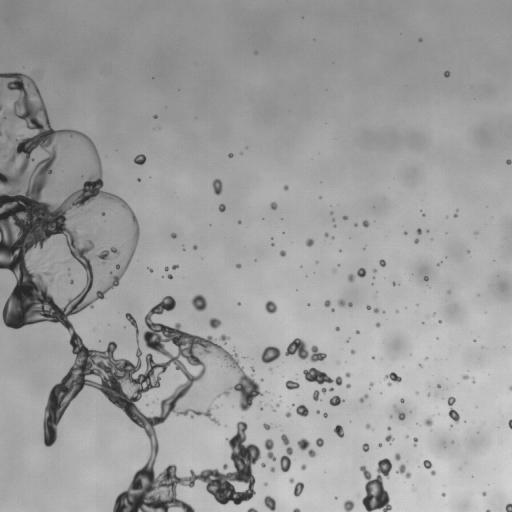droplet: (359, 458, 392, 511), (261, 346, 281, 363), (191, 294, 207, 311), (289, 478, 304, 496), (385, 372, 401, 386), (396, 464, 411, 478), (264, 496, 275, 511), (212, 179, 222, 195), (265, 300, 277, 313), (296, 404, 308, 417), (329, 395, 344, 405), (133, 154, 146, 165), (285, 379, 299, 389), (343, 500, 354, 511), (209, 318, 220, 328), (334, 425, 343, 437), (357, 268, 366, 277), (219, 334, 228, 342), (424, 418, 433, 426), (423, 460, 432, 468), (306, 238, 314, 246), (337, 299, 345, 306), (398, 412, 405, 420), (385, 435, 393, 442), (316, 438, 323, 446), (362, 443, 369, 451), (270, 202, 277, 209), (218, 204, 225, 211), (98, 209, 105, 216), (362, 220, 369, 227), (394, 453, 401, 460), (348, 274, 354, 282), (505, 503, 511, 511), (379, 259, 385, 266), (324, 300, 330, 307), (263, 423, 270, 429), (444, 70, 449, 77), (462, 374, 469, 379), (280, 250, 285, 256), (172, 264, 178, 269), (285, 412, 291, 417), (301, 464, 306, 470), (43, 271, 50, 275), (506, 159, 511, 164), (171, 233, 176, 238), (350, 349, 355, 354), (345, 372, 350, 377), (365, 424, 370, 429), (417, 228, 421, 234), (223, 463, 227, 469), (228, 153, 233, 157), (284, 185, 288, 190), (236, 264, 241, 268), (148, 267, 152, 272), (164, 266, 168, 271), (167, 274, 172, 278), (424, 276, 428, 281), (374, 308, 378, 313), (376, 322, 380, 327), (261, 462, 265, 467), (431, 470, 435, 475), (414, 239, 418, 243), (193, 245, 197, 249), (366, 305, 370, 309), (369, 383, 373, 387), (346, 384, 350, 388), (400, 398, 404, 402), (323, 413, 327, 417), (270, 467, 274, 471), (276, 402, 279, 407), (454, 213, 457, 217), (343, 216, 347, 219), (50, 278, 53, 282), (348, 303, 352, 306), (437, 384, 440, 388), (387, 427, 391, 430), (482, 492, 486, 495), (154, 115, 157, 118), (325, 233, 328, 236), (373, 269, 376, 272), (70, 280, 73, 283), (336, 327, 339, 330), (251, 367, 254, 370), (378, 444, 381, 447), (442, 493, 445, 496), (486, 509, 490, 511), (419, 38, 421, 41), (404, 231, 406, 234), (437, 263, 440, 265), (439, 320, 441, 323), (356, 331, 359, 333), (393, 406, 396, 408), (272, 408, 275, 410), (316, 411, 319, 413), (264, 483, 267, 485), (138, 178, 140, 180), (238, 221, 240, 223), (393, 282, 395, 284), (238, 303, 240, 305), (396, 310, 398, 312), (419, 364, 421, 366), (472, 379, 474, 381), (427, 393, 429, 395), (450, 425, 452, 427)
ligament: (0, 73, 260, 511), (285, 338, 326, 362), (303, 368, 342, 385), (280, 434, 292, 472), (125, 313, 139, 342), (297, 438, 316, 457), (447, 397, 459, 424), (312, 387, 333, 401), (264, 438, 276, 460), (360, 395, 368, 402), (83, 208, 93, 213), (247, 507, 257, 511), (413, 437, 417, 446), (508, 419, 511, 428), (292, 508, 300, 511), (0, 101, 2, 109), (509, 385, 511, 390)
